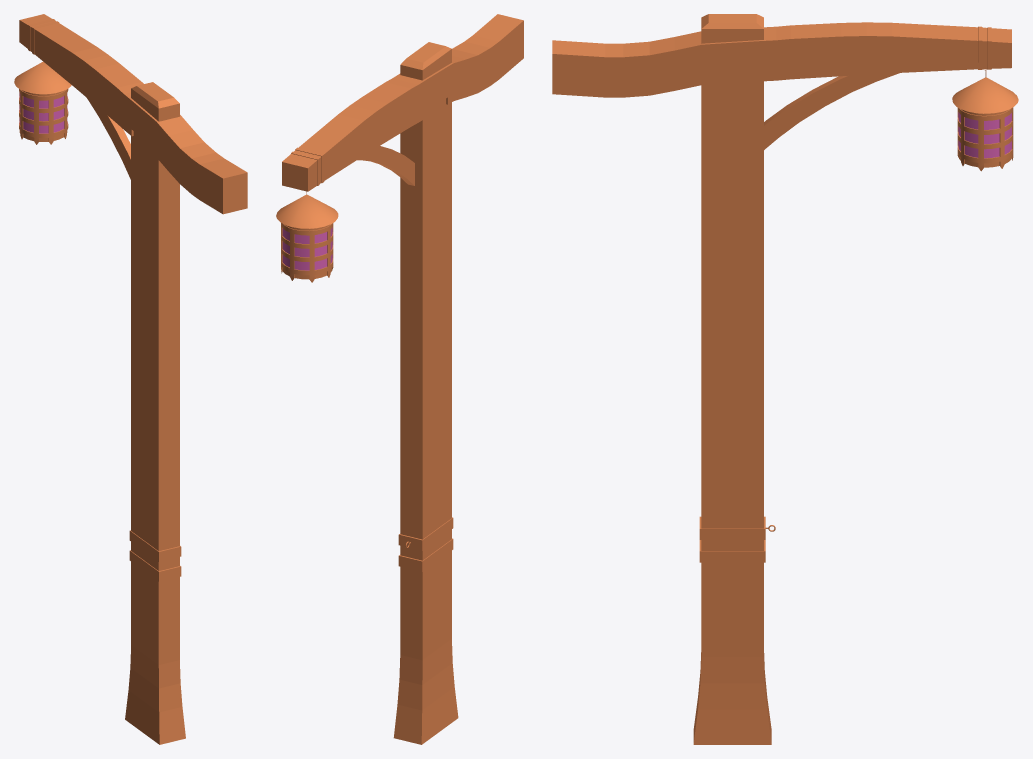
File: Lamppost.fbx
The picture shows the model from 3 angles, left to right: view 1: azimuth 30°, elevation 25°; view 2: azimuth 150°, elevation 25°; view 3: azimuth 270°, elevation 25°; orthographic projection. The views are drawn at different scales.
Visible parts, largest first — view 1: Cube; view 2: Cube; view 3: Cube.
Boxes of the visible parts, x1,y1,x2,y2 form: Cube: (14,14,247,744); Cube: (276,14,523,744); Cube: (552,14,1018,744).
Size of the model in its own units: 0.2576 by 3.07 by 1.8.
